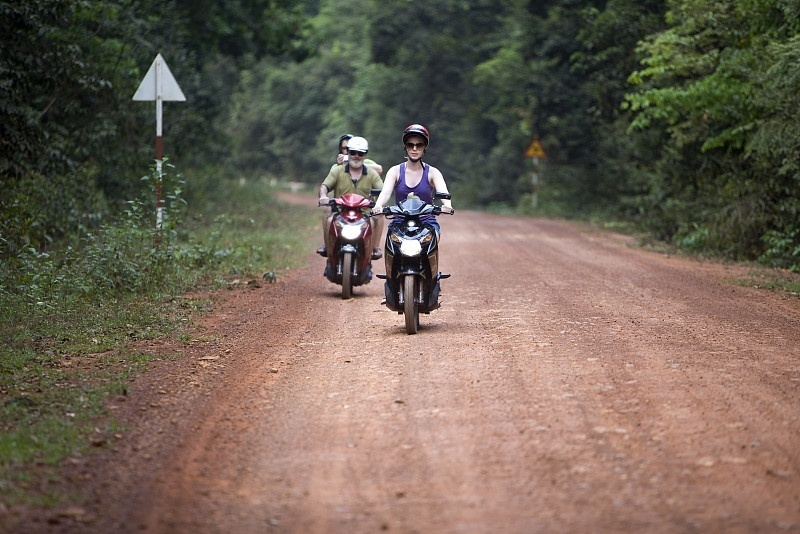non-vehicle: (378, 196, 450, 325), (321, 193, 375, 294)
